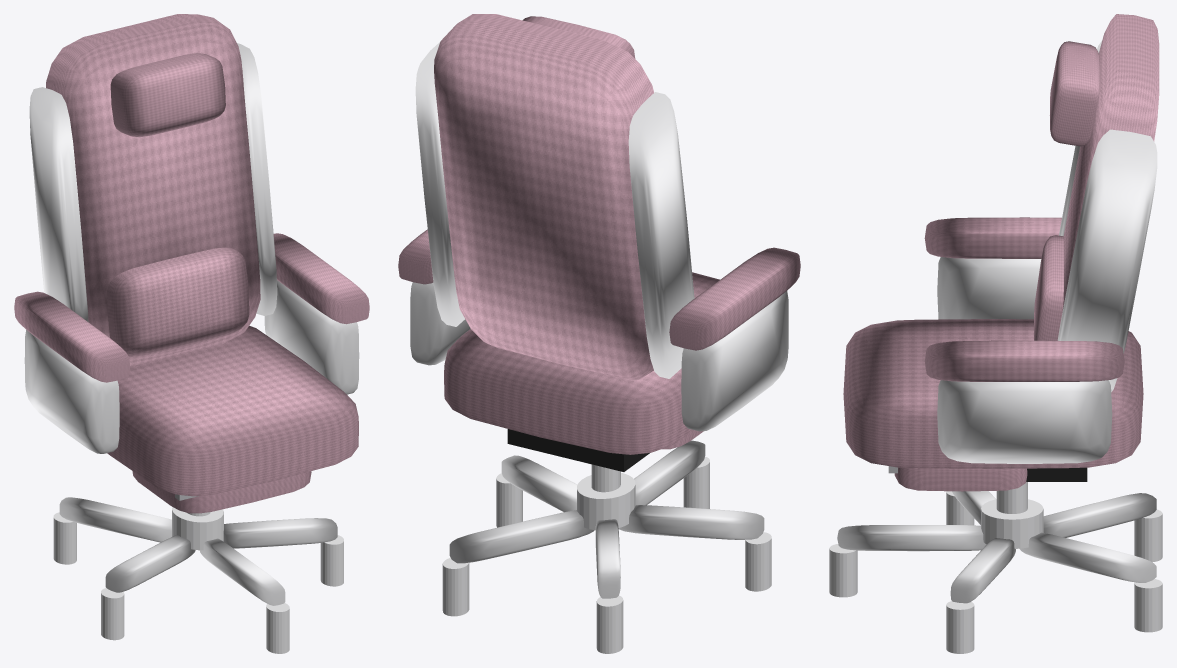
The picture shows the model from 3 angles, left to right: view 1: azimuth 30°, elevation 25°; view 2: azimuth 150°, elevation 25°; view 3: azimuth 270°, elevation 25°; orthographic projection. The views are drawn at different scales.
Parts seen in each view (by area): view 1: 4 backrest, 1 seat, 6 lumbar_pillow, 7 left_back_trim, 5 headrest, 11 left_armrest_frame, 12 right_armrest_frame, 9 left_armrest_pad, 8 right_back_trim, 10 right_armrest_pad, 18 base_spoke_2, 22 base_spoke_4 (+8 smaller); view 2: 4 backrest, 1 seat, 7 left_back_trim, 11 left_armrest_frame, 9 left_armrest_pad, 8 right_back_trim, 24 base_spoke_5, 20 base_spoke_3, 12 right_armrest_frame, 18 base_spoke_2, 16 base_spoke_1, 15 base_hub (+10 smaller); view 3: 1 seat, 8 right_back_trim, 12 right_armrest_frame, 4 backrest, 10 right_armrest_pad, 11 left_armrest_frame, 9 left_armrest_pad, 5 headrest, 16 base_spoke_1, 20 base_spoke_3, 22 base_spoke_4, 2 footrest_pad (+12 smaller).
Boxes of the visible parts, bbox=[...] form: 4 backrest: bbox=[46, 14, 260, 366]; 1 seat: bbox=[107, 325, 358, 496]; 6 lumbar_pillow: bbox=[107, 247, 249, 357]; 7 left_back_trim: bbox=[29, 87, 88, 321]; 5 headrest: bbox=[110, 53, 225, 137]; 11 left_armrest_frame: bbox=[24, 330, 119, 453]; 12 right_armrest_frame: bbox=[264, 280, 359, 394]; 9 left_armrest_pad: bbox=[14, 291, 130, 382]; 8 right_back_trim: bbox=[237, 43, 277, 315]; 10 right_armrest_pad: bbox=[273, 233, 369, 324]; 18 base_spoke_2: bbox=[223, 518, 337, 548]; 22 base_spoke_4: bbox=[59, 497, 171, 542]; 4 backrest: bbox=[434, 14, 653, 379]; 1 seat: bbox=[444, 272, 719, 454]; 7 left_back_trim: bbox=[628, 92, 694, 378]; 11 left_armrest_frame: bbox=[681, 291, 788, 431]; 9 left_armrest_pad: bbox=[669, 247, 800, 350]; 8 right_back_trim: bbox=[415, 41, 464, 326]; 24 base_spoke_5: bbox=[618, 505, 764, 539]; 20 base_spoke_3: bbox=[449, 510, 594, 563]; 12 right_armrest_frame: bbox=[410, 282, 470, 365]; 18 base_spoke_2: bbox=[501, 455, 577, 512]; 16 base_spoke_1: bbox=[634, 440, 705, 505]; 15 base_hub: bbox=[577, 473, 635, 530]; 1 seat: bbox=[843, 319, 1143, 468]; 8 right_back_trim: bbox=[1057, 129, 1157, 391]; 12 right_armrest_frame: bbox=[937, 380, 1112, 463]; 4 backrest: bbox=[1062, 14, 1159, 312]; 10 right_armrest_pad: bbox=[924, 340, 1124, 381]; 11 left_armrest_frame: bbox=[937, 257, 1041, 319]; 9 left_armrest_pad: bbox=[924, 217, 1061, 258]; 5 headrest: bbox=[1049, 41, 1099, 146]; 16 base_spoke_1: bbox=[837, 525, 986, 551]; 20 base_spoke_3: bbox=[1019, 532, 1156, 582]; 22 base_spoke_4: bbox=[1043, 493, 1156, 537]; 2 footrest_pad: bbox=[894, 467, 1027, 491].
Size of the model in its own units: 0.55 by 1 by 0.55.
Materials: 4 (1 with a texture image).
